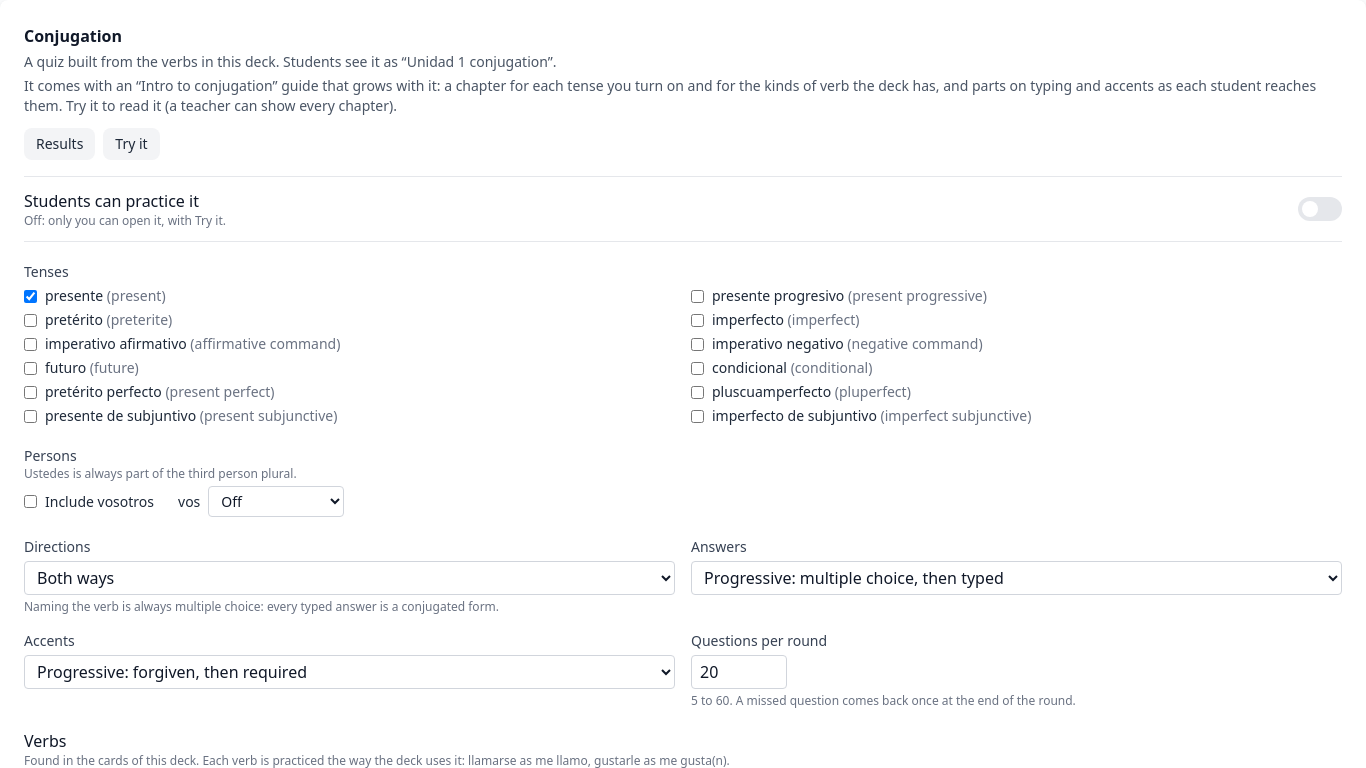
Test: ConjugationSettings › checks the draft before saving
Click the checkbox labelled "presente (present)".
click(30, 296)  # box [24,290,37,302]
(page scrolled)
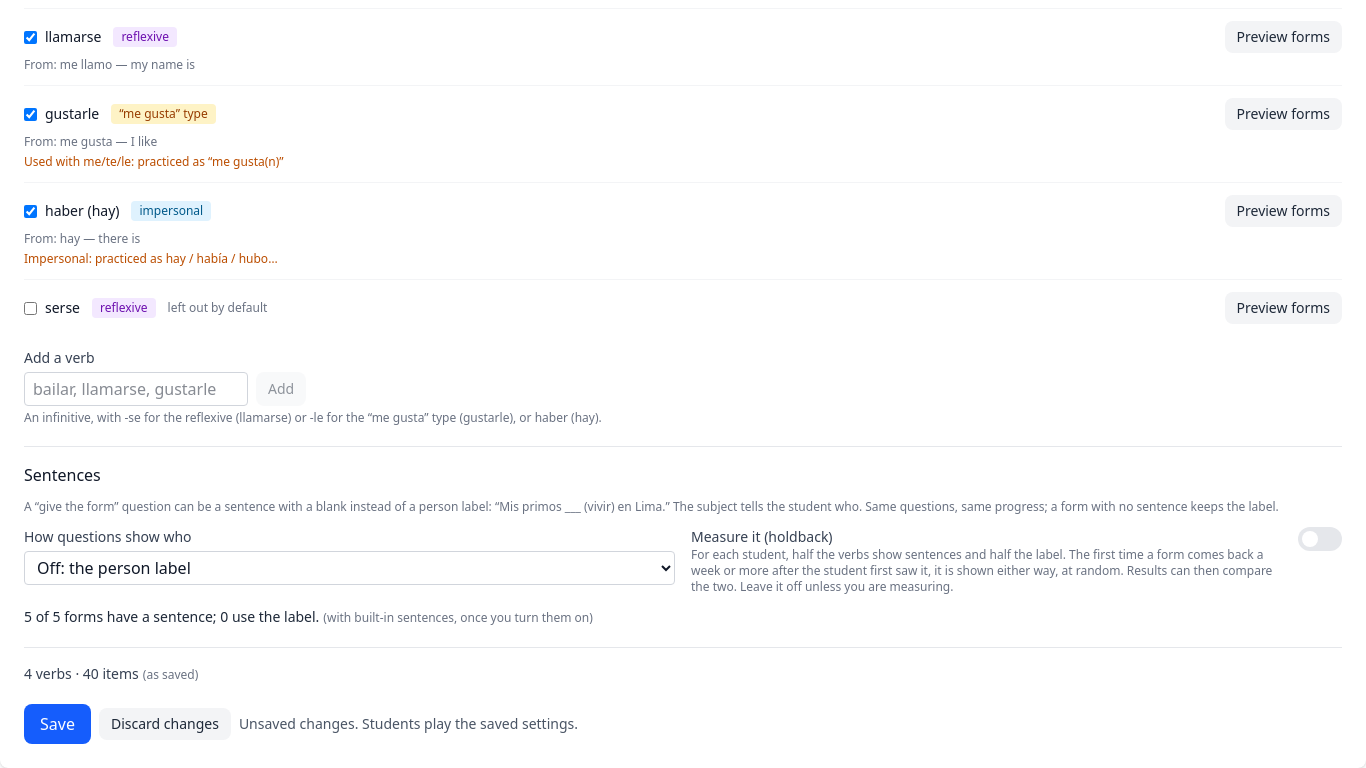
Click the button "Save".
click(57, 724)  # box [24,704,91,744]
(page scrolled)
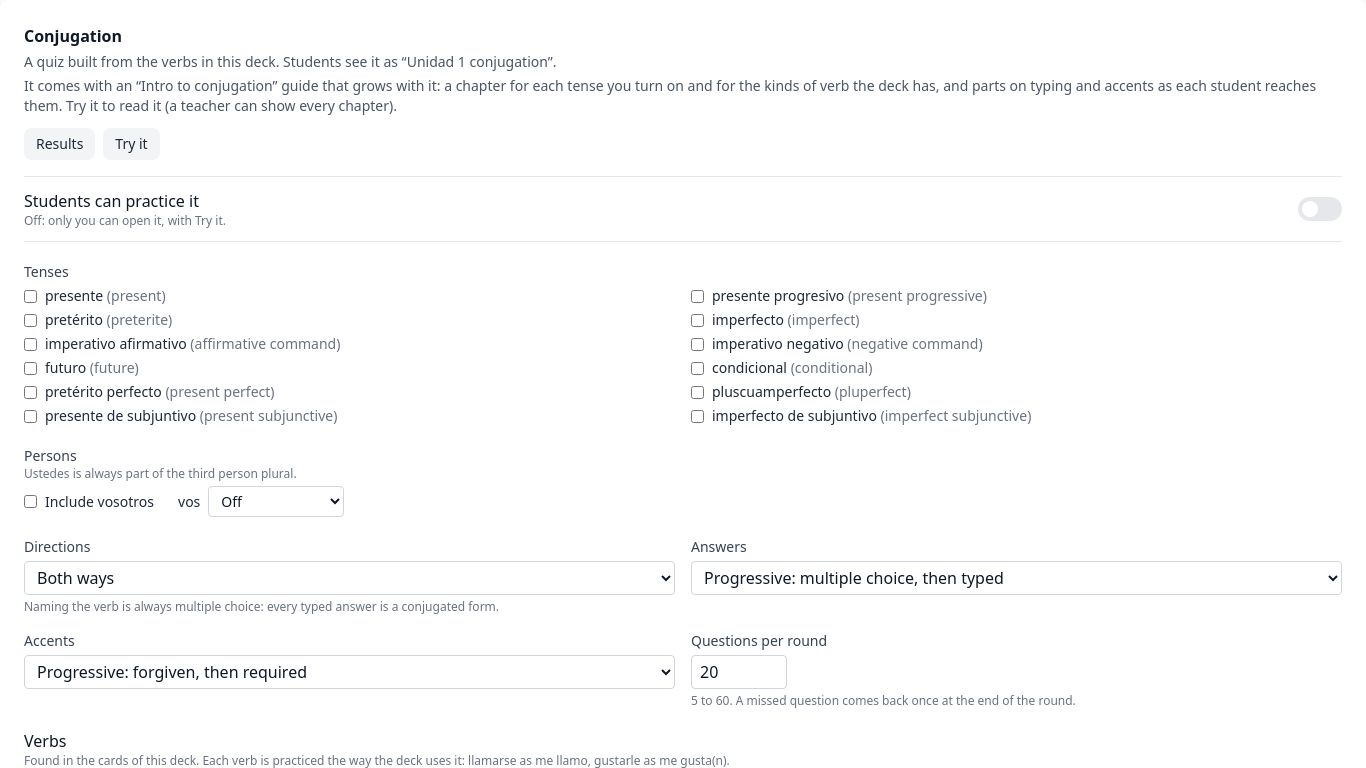
Click the checkbox labelled "presente (present)".
click(30, 296)  # box [24,290,37,302]
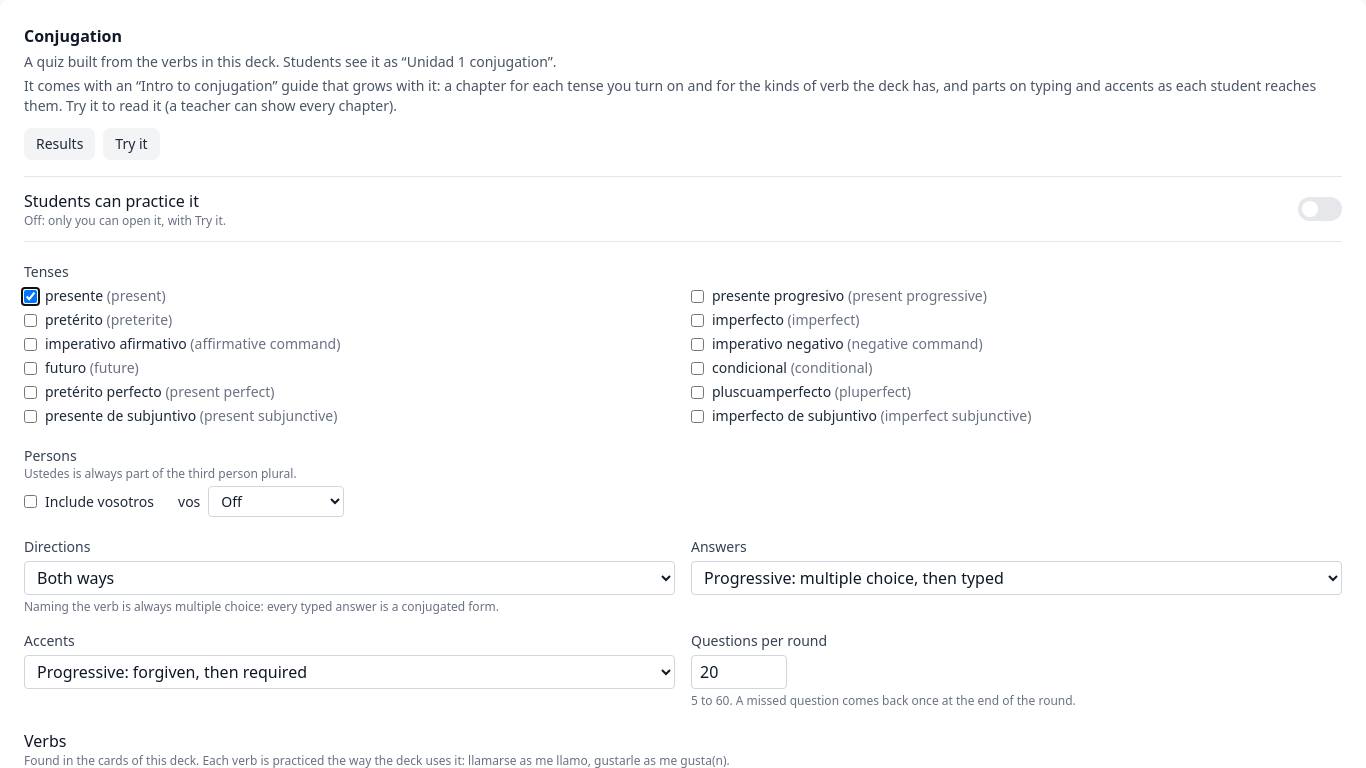
Replace the text in the field labelled "Questions per round" with "70" at [739, 672], box [691,655,787,689]
(page scrolled)
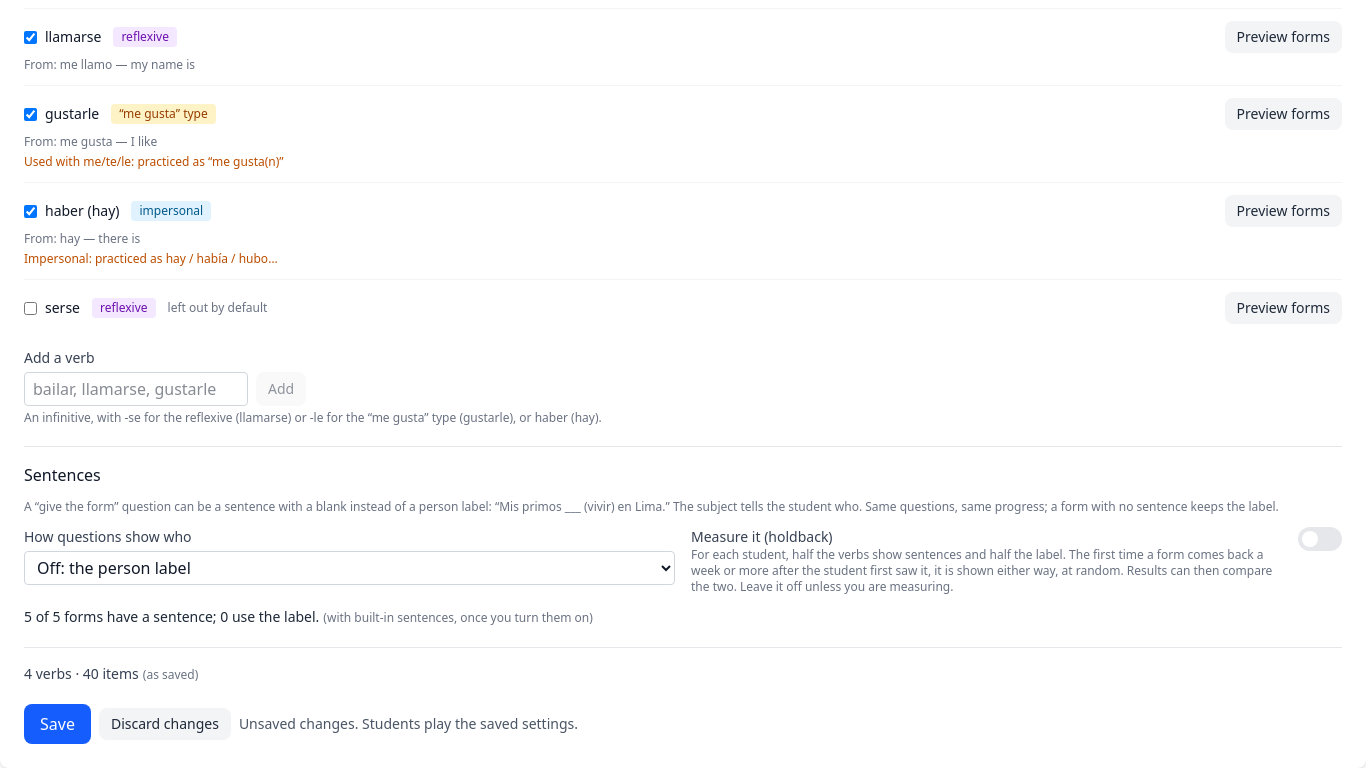
Click the button "Save".
click(57, 724)  # box [24,704,91,744]
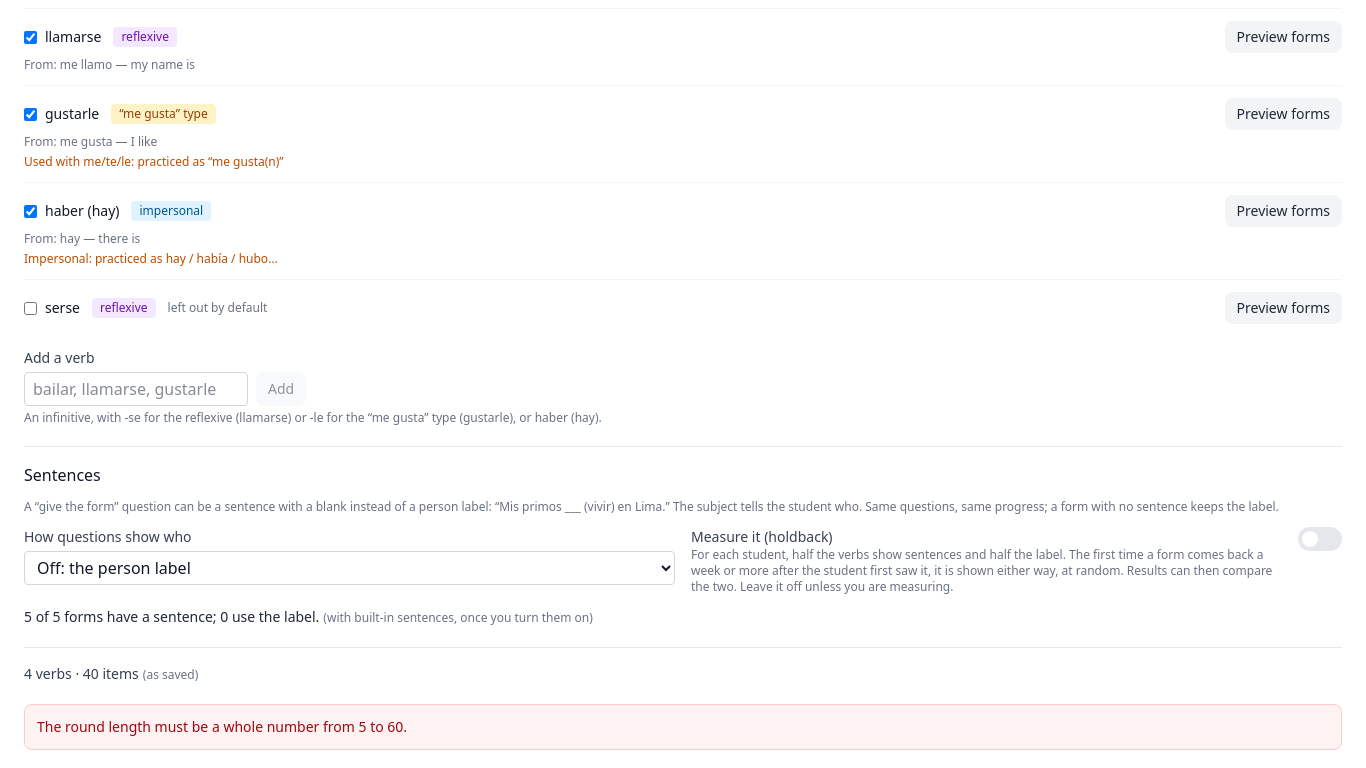
Expected: the message reads "The round length must be a whole number from 5 to 60.", [37,717,407,736]
